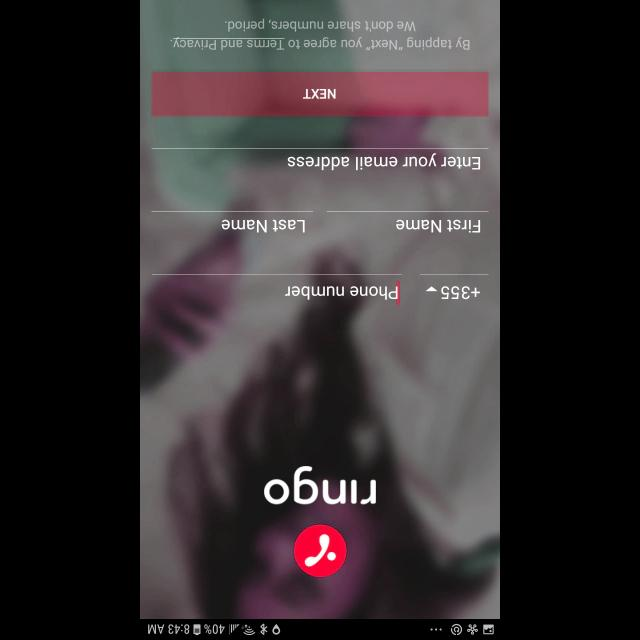backgroundimage: (140, 0, 500, 618)
icon: (426, 286, 438, 292)
image: (264, 466, 376, 504), (294, 524, 346, 576)
input: (152, 274, 402, 304), (152, 148, 488, 170), (327, 211, 489, 233), (152, 211, 312, 233), (419, 273, 488, 299)
text: (170, 18, 470, 50), (286, 153, 479, 171), (284, 286, 398, 300), (396, 219, 480, 233), (222, 220, 306, 232), (440, 285, 480, 299)
textbutton: (152, 72, 488, 116)
uppertaskbar: (140, 618, 500, 640)
